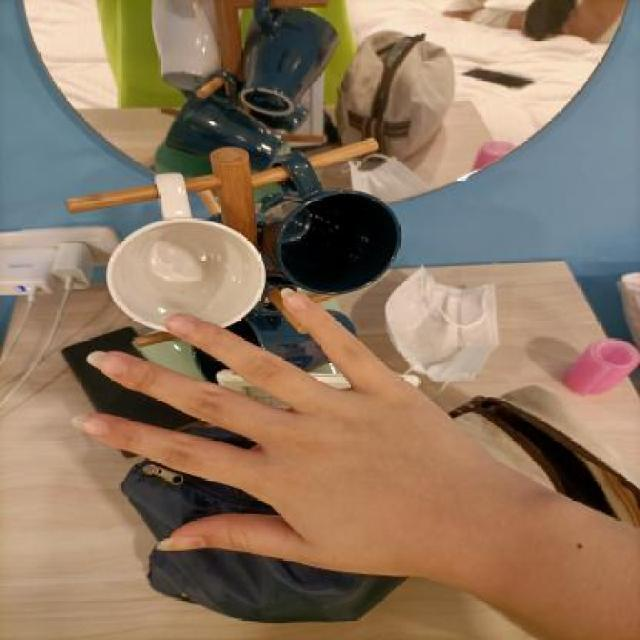bare_hand: (61, 277, 547, 632)
